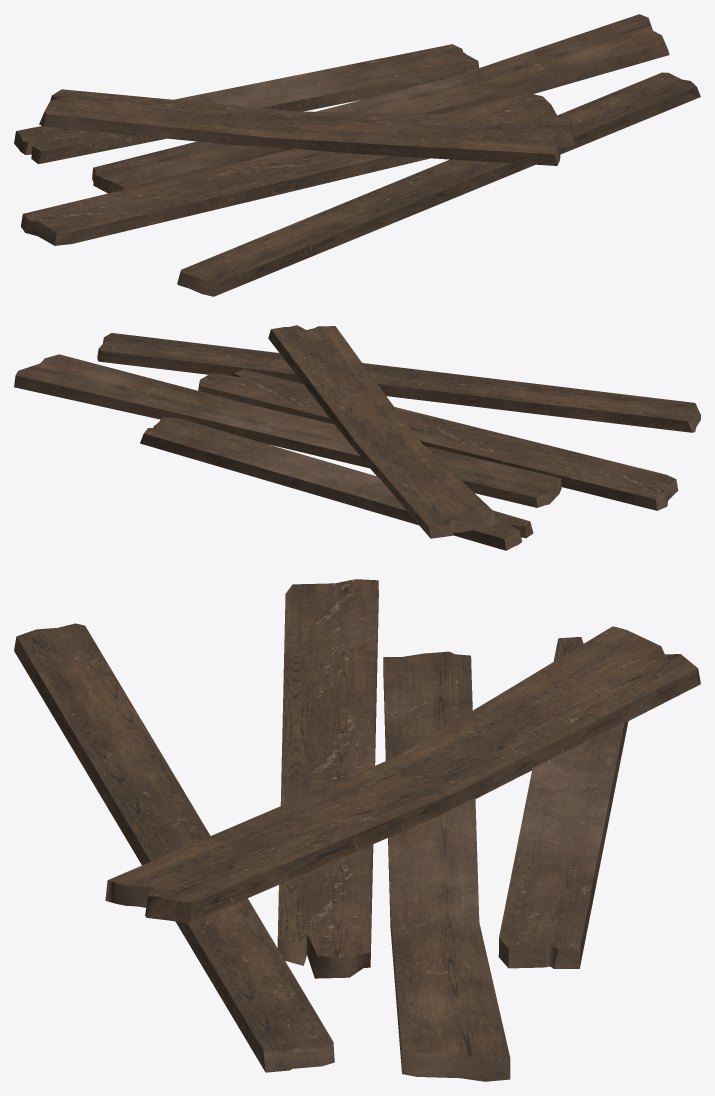
Rendered from SM_Planks_01.fbx.
3 views of the same model, one above another, from view 1: azimuth 30°, elevation 25°; view 2: azimuth 150°, elevation 25°; view 3: azimuth 270°, elevation 25° (orthographic). The views are drawn at different scales.
Parts seen in each view (by area): view 1: SM_Planks_01_LOD0; view 2: SM_Planks_01_LOD0; view 3: SM_Planks_01_LOD0.
Part boxes in pixels (x1,y1,x2,y2): SM_Planks_01_LOD0: (14, 14, 700, 296); SM_Planks_01_LOD0: (14, 325, 700, 550); SM_Planks_01_LOD0: (14, 579, 700, 1081).
Size of what is drawn, in the model's own units: 381 by 19.48 by 223.
